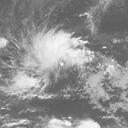cyclone: (26, 28, 90, 78)
